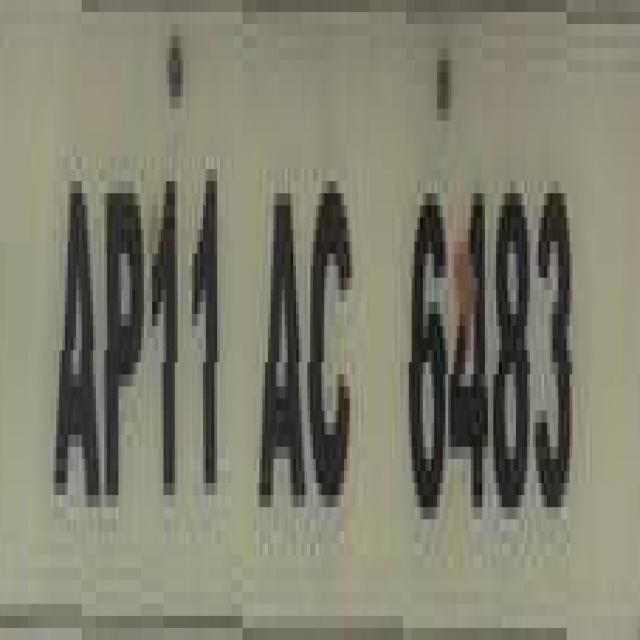license_plate: (0, 12, 612, 640)
